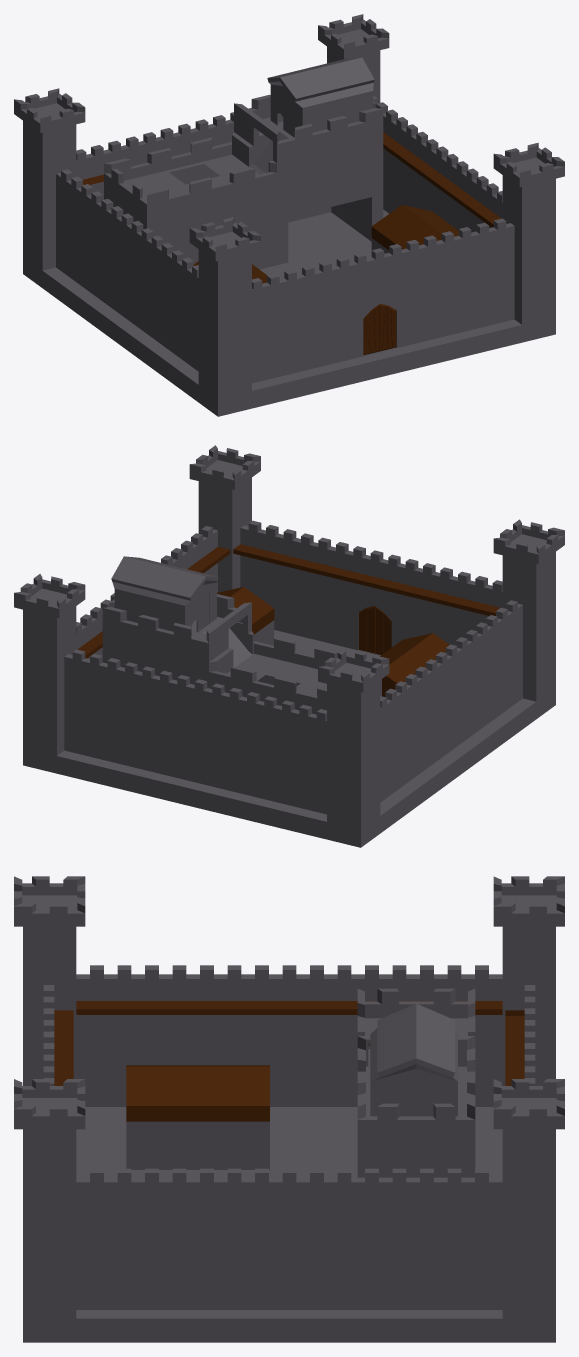
The model's file is castleWIP.fbx.
3 renders of one model, top to bottom at view 1: azimuth 30°, elevation 25°; view 2: azimuth 150°, elevation 25°; view 3: azimuth 270°, elevation 25°, orthographic. The views are drawn at different scales.
Visible parts, largest first — view 1: Most of the Castle, main building, Cube.010, wall ledge 1, Door; view 2: Most of the Castle, main building, wall ledge 2, Cube.008, Door, Cube.010, wall ledge 1; view 3: Most of the Castle, main building, Cube.008, side building 1, wall lede 3, wall ledge 2, wall ledge 4.
Part boxes in pixels (x1,y1,x2,y2): Most of the Castle: (14,14,564,416); main building: (104,57,383,269); Cube.010: (371,205,458,250); wall ledge 1: (383,132,501,227); Door: (363,303,396,355); Most of the Castle: (14,445,564,847); main building: (102,556,381,714); wall ledge 2: (233,544,500,615); Cube.008: (380,633,449,696); Door: (358,606,391,655); Cube.010: (217,587,274,634); wall ledge 1: (77,546,230,658); Most of the Castle: (14,876,564,1342); main building: (357,988,475,1177); Cube.008: (126,1065,269,1121); side building 1: (126,1121,269,1169); wall lede 3: (76,1001,502,1014); wall ledge 2: (54,1010,73,1085); wall ledge 4: (505,1010,524,1085).
Size of the model in its own units: 10342 by 5201 by 10342.
